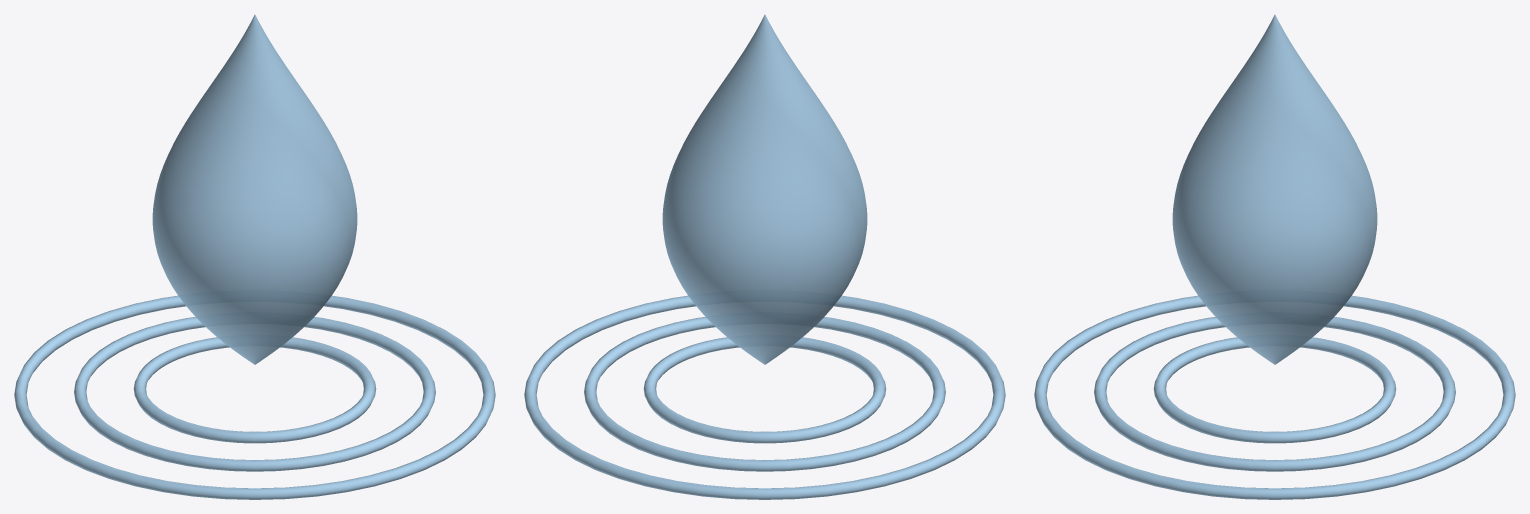
The model's file is hydration.glb.
3 renders of one model, left to right at view 1: azimuth 30°, elevation 25°; view 2: azimuth 150°, elevation 25°; view 3: azimuth 270°, elevation 25°, orthographic.
Parts seen in each view (by area): view 1: Hydration_Droplet, Hydration_Ripple_2, Hydration_Ripple_1, Hydration_Ripple_0; view 2: Hydration_Droplet, Hydration_Ripple_2, Hydration_Ripple_1, Hydration_Ripple_0; view 3: Hydration_Droplet, Hydration_Ripple_2, Hydration_Ripple_1, Hydration_Ripple_0.
Boxes of the visible parts, bbox=[...] form: Hydration_Droplet: bbox=[152, 14, 357, 364]; Hydration_Ripple_2: bbox=[14, 295, 495, 499]; Hydration_Ripple_1: bbox=[74, 317, 435, 471]; Hydration_Ripple_0: bbox=[133, 337, 376, 443]; Hydration_Droplet: bbox=[662, 14, 867, 364]; Hydration_Ripple_2: bbox=[524, 295, 1005, 499]; Hydration_Ripple_1: bbox=[584, 317, 945, 471]; Hydration_Ripple_0: bbox=[643, 337, 886, 443]; Hydration_Droplet: bbox=[1172, 14, 1377, 364]; Hydration_Ripple_2: bbox=[1034, 295, 1515, 499]; Hydration_Ripple_1: bbox=[1094, 317, 1455, 471]; Hydration_Ripple_0: bbox=[1153, 337, 1396, 443].
Size of the model in its own units: 2.18 by 1.93 by 2.18.
